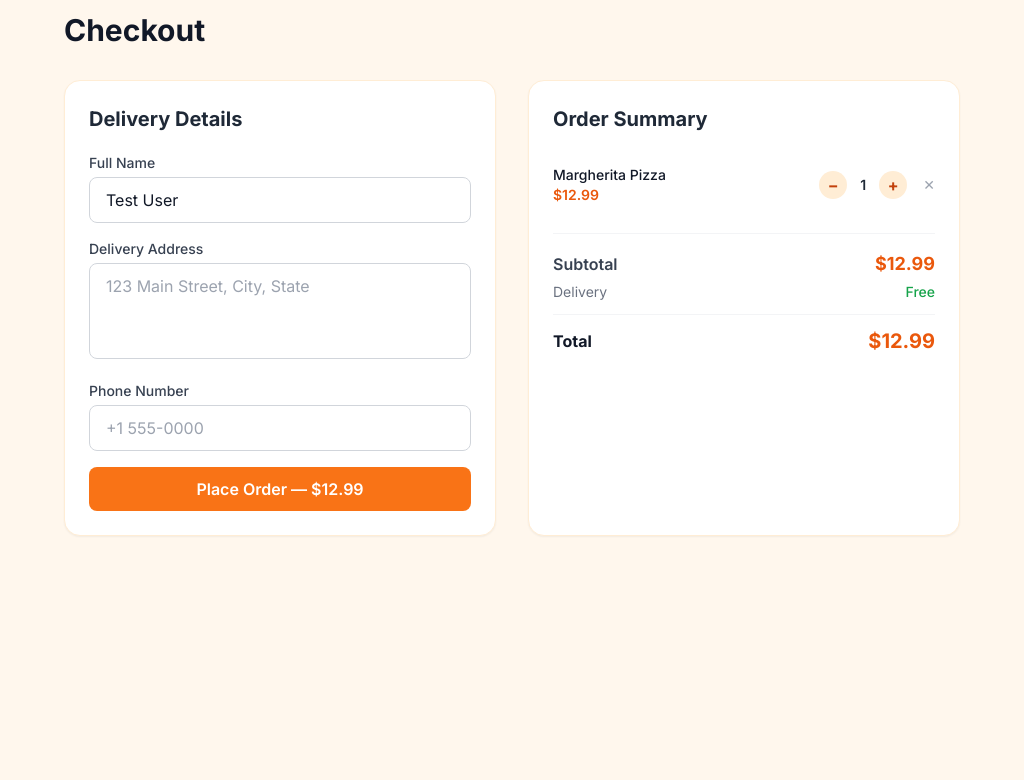
Scenario: CheckoutPage › shows api error when order creation fails
This screenshot has width=1024, height=780.
Replace the text in the field with test id "input-name" with "John": (280, 200) [89, 177, 471, 223]
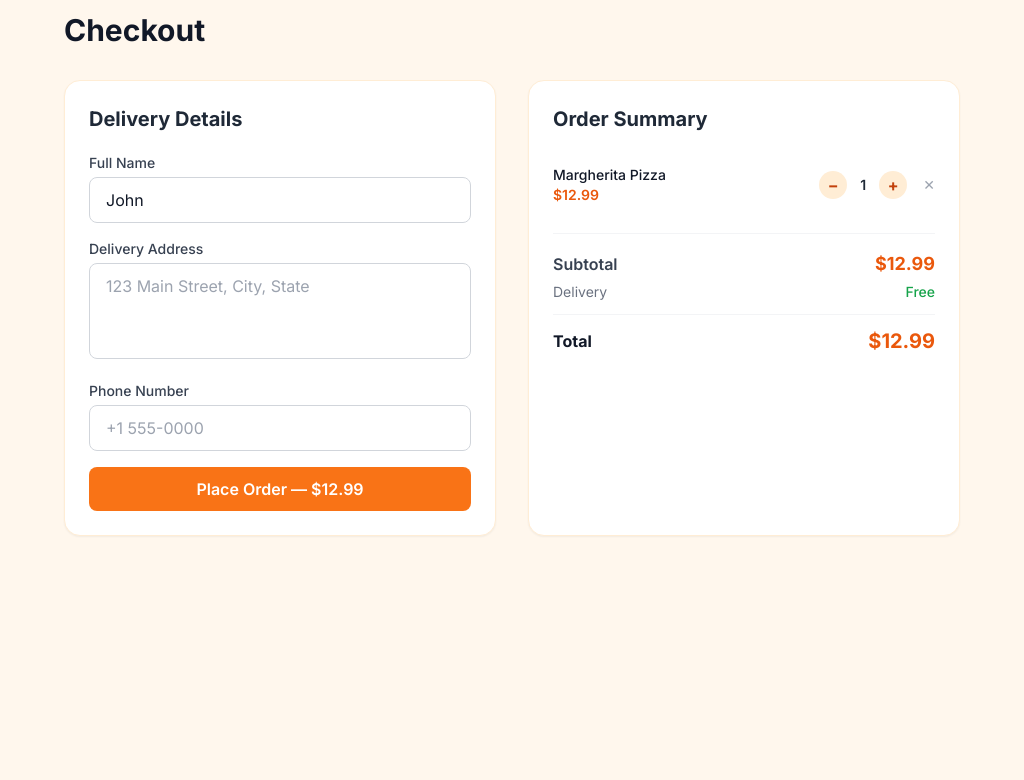
In the text box with test id "input-address": (280, 311) [89, 263, 471, 359], type "123 St"
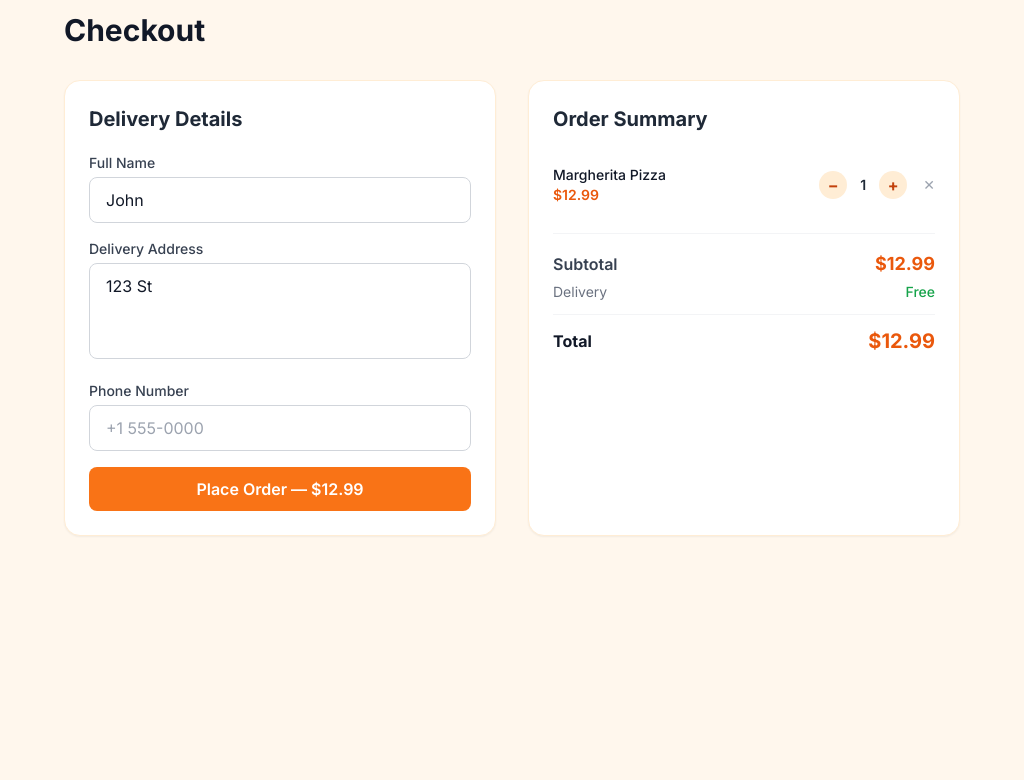
In the field with test id "input-phone": (280, 428) [89, 405, 471, 451], type "555-9999"
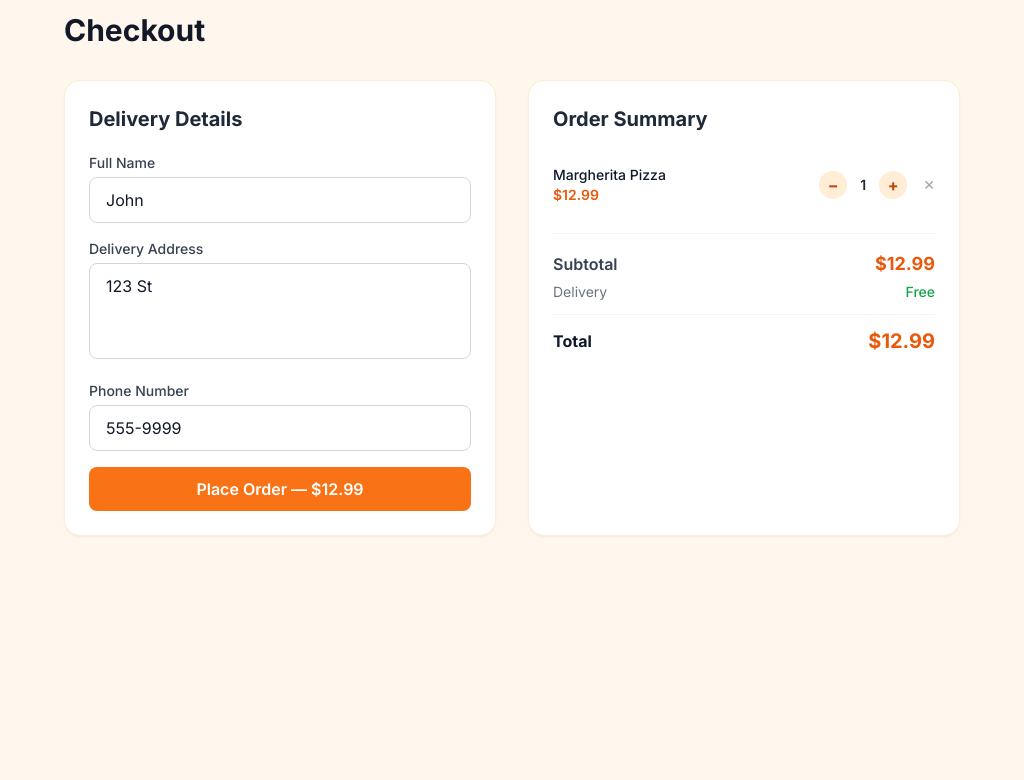
Click the button with test id "submit-order": (280, 489) [89, 467, 471, 511]
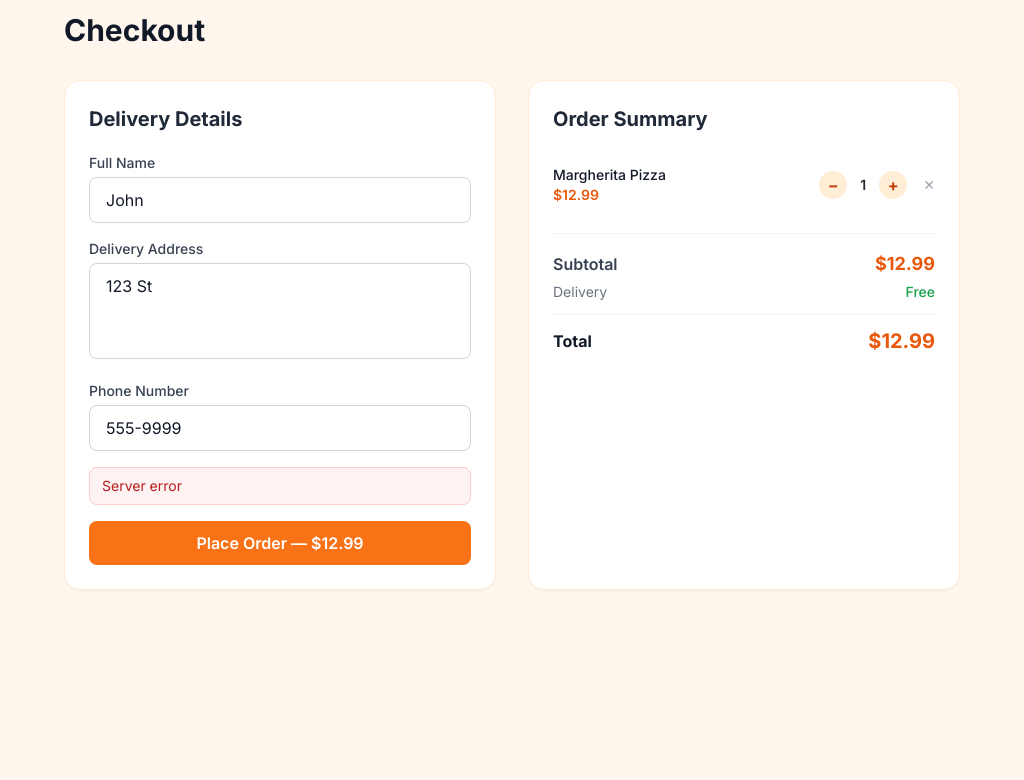
Expected: the text "Server error" is shown, [89, 467, 471, 505]
